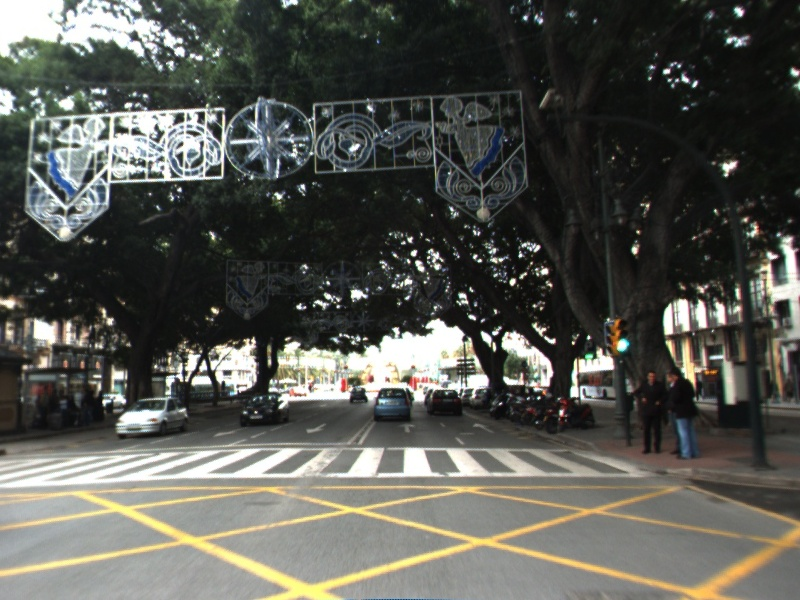STRAIGHT: (471, 420, 498, 435), (396, 421, 418, 434)
